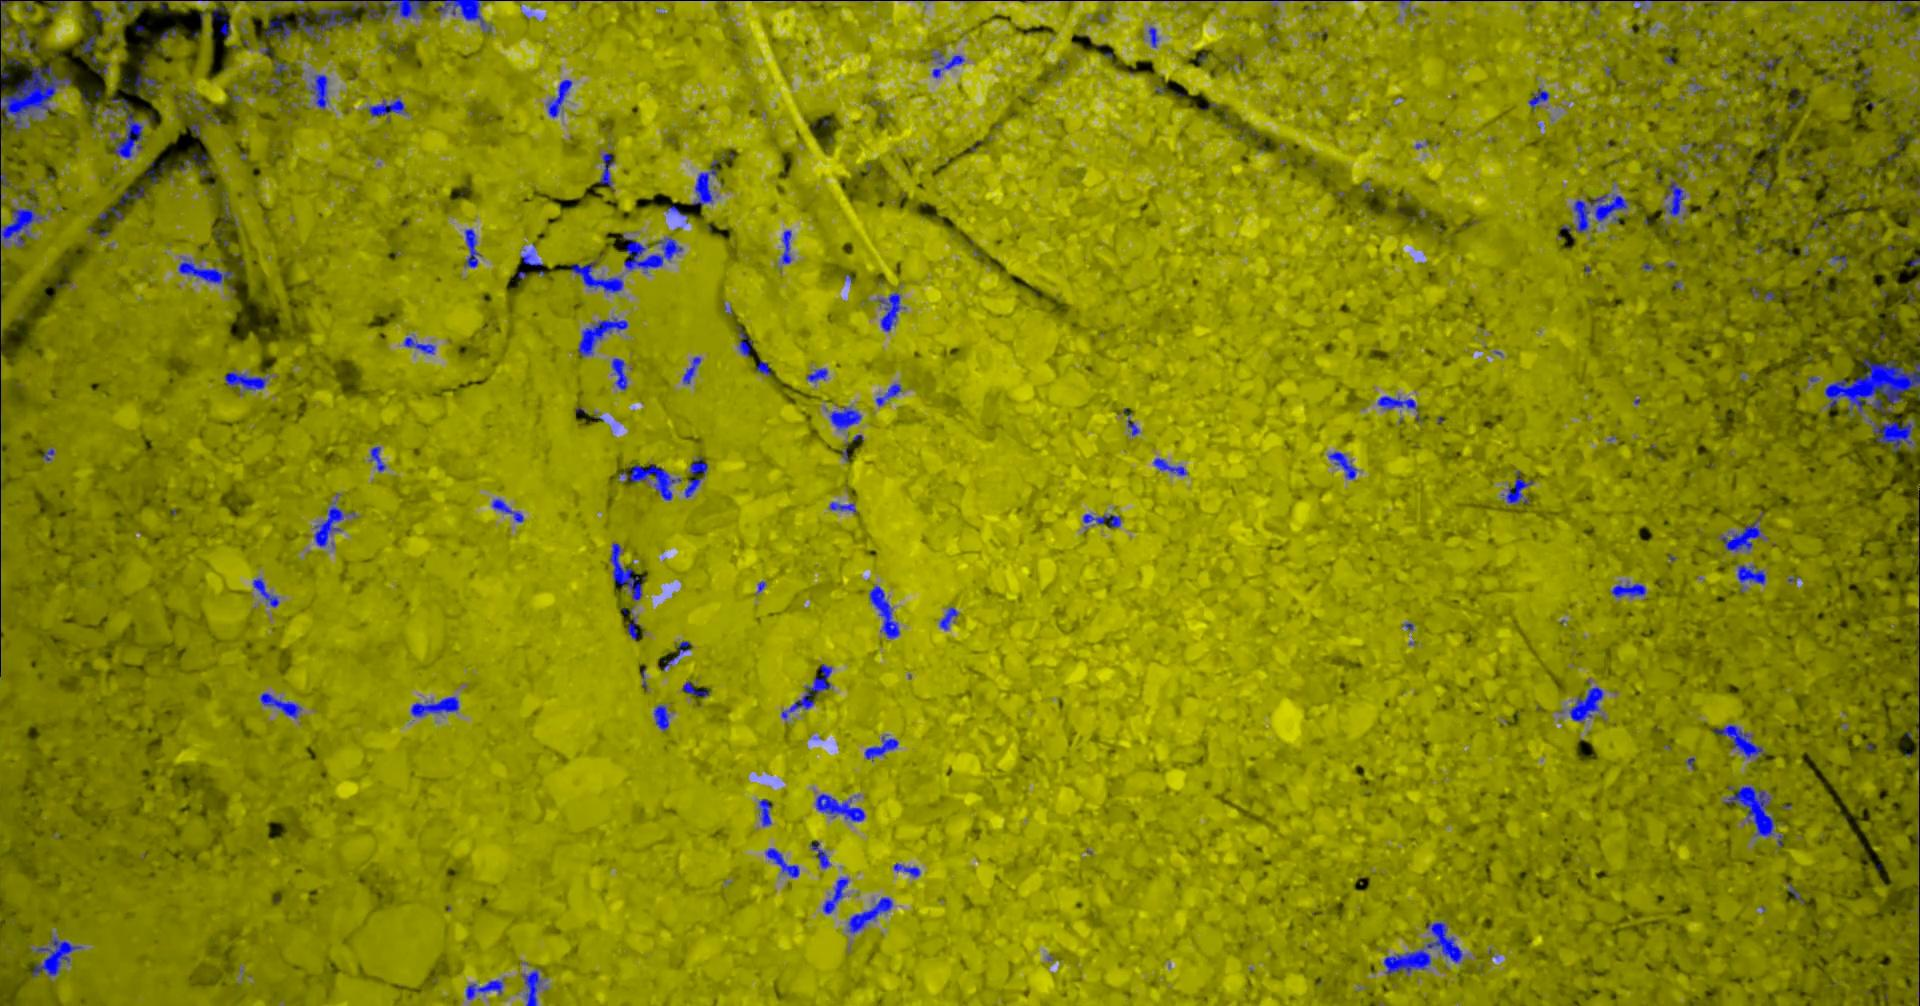ant: (264, 8, 352, 41), (781, 663, 830, 718), (1561, 193, 1627, 232), (618, 464, 681, 500), (109, 93, 142, 158), (30, 936, 83, 977), (610, 542, 645, 600), (623, 238, 682, 272), (577, 318, 627, 356), (0, 207, 44, 248), (1713, 724, 1765, 758), (570, 260, 623, 293), (1719, 511, 1763, 551), (847, 895, 891, 934), (869, 586, 899, 638), (178, 257, 232, 283), (260, 44, 290, 94), (312, 500, 343, 546), (815, 793, 863, 821), (1872, 420, 1914, 451), (1568, 686, 1603, 721), (692, 158, 717, 205), (1377, 395, 1421, 420), (877, 292, 905, 332), (1501, 470, 1533, 504), (259, 692, 301, 718), (764, 847, 799, 876), (822, 876, 848, 913), (410, 696, 458, 716), (546, 79, 571, 117), (368, 97, 406, 121), (863, 734, 898, 761), (223, 370, 268, 390), (114, 0, 166, 17), (931, 52, 964, 77), (1327, 451, 1356, 479), (1736, 564, 1765, 592), (251, 578, 278, 607), (663, 640, 690, 669), (465, 978, 503, 998), (491, 498, 523, 522), (1662, 180, 1684, 215), (829, 406, 861, 429), (14, 23, 38, 52), (463, 227, 481, 267), (523, 968, 541, 1005), (210, 8, 230, 39), (310, 74, 328, 108), (133, 72, 161, 94), (809, 840, 830, 868), (1153, 457, 1186, 475), (1747, 166, 1773, 189), (1082, 513, 1120, 528), (875, 384, 902, 405), (403, 337, 434, 354), (611, 357, 627, 390), (119, 185, 147, 205), (81, 91, 97, 126), (1610, 582, 1644, 597), (0, 0, 13, 39), (682, 356, 700, 384), (1528, 86, 1548, 111), (599, 152, 613, 185), (682, 681, 710, 697), (737, 325, 750, 356), (1891, 0, 1911, 20), (938, 607, 957, 629), (653, 704, 668, 730), (370, 446, 385, 471), (690, 455, 707, 476), (1854, 69, 1870, 91), (893, 862, 919, 876), (80, 34, 99, 53), (758, 798, 771, 826), (627, 616, 641, 640), (781, 230, 791, 263), (829, 500, 855, 513), (1787, 93, 1804, 111), (683, 478, 700, 497), (145, 163, 157, 185), (806, 367, 827, 381), (521, 253, 542, 265), (1761, 55, 1780, 69), (1831, 255, 1848, 271), (1147, 25, 1158, 47), (0, 166, 11, 188), (1128, 413, 1139, 434), (43, 0, 63, 11), (93, 8, 108, 22), (756, 359, 770, 375), (159, 28, 177, 39)
